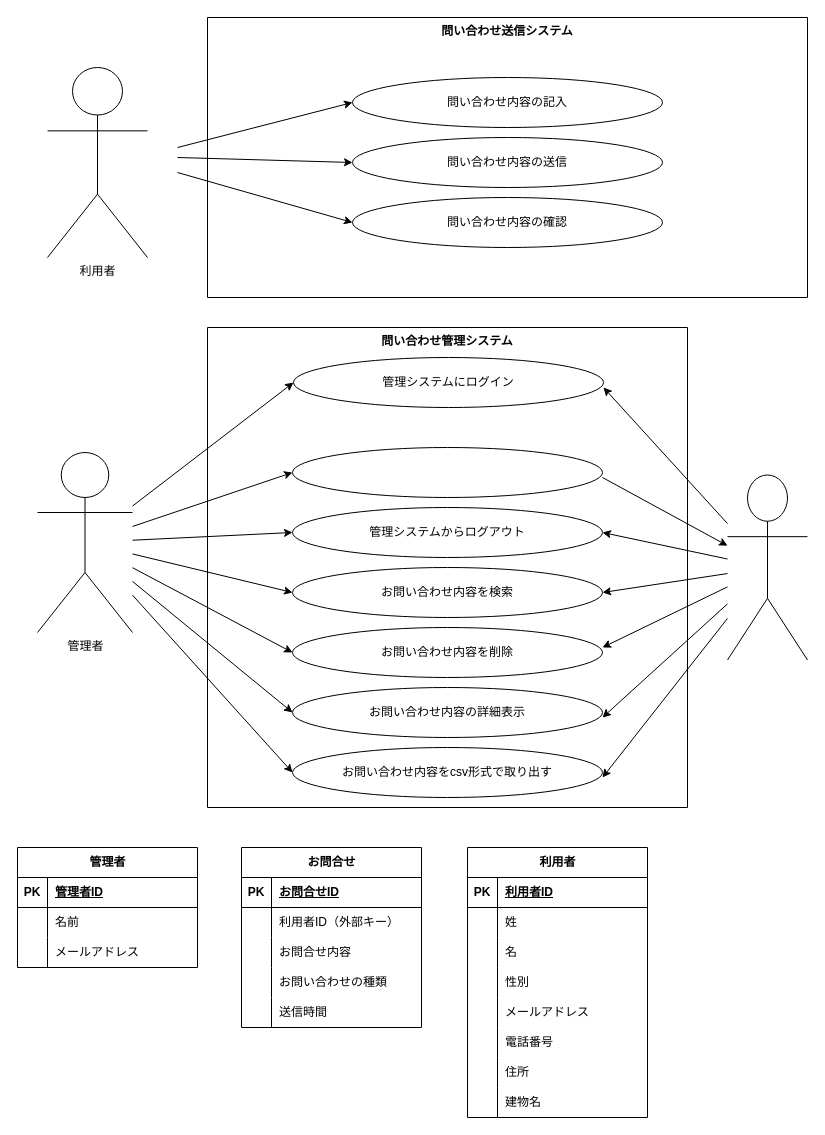
Image size: 825x1135. Some labels were removed from this diagram. The centre of each missing label's shape, as x and y in pixels:
"新規ユーザーの作成・登録" goes at point (447, 472).
"新規管理者" goes at point (767, 567).
